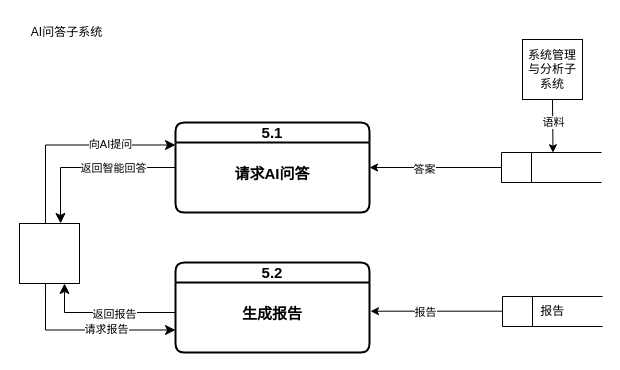
Some shapes in this 620 by 370 pixel diagram are drawn without their labels. Here are the shapes that lost their labels. From the top down, the box of each, then its label:
(500, 152, 602, 182): 语料库
(18, 222, 80, 284): 铁路管理局
